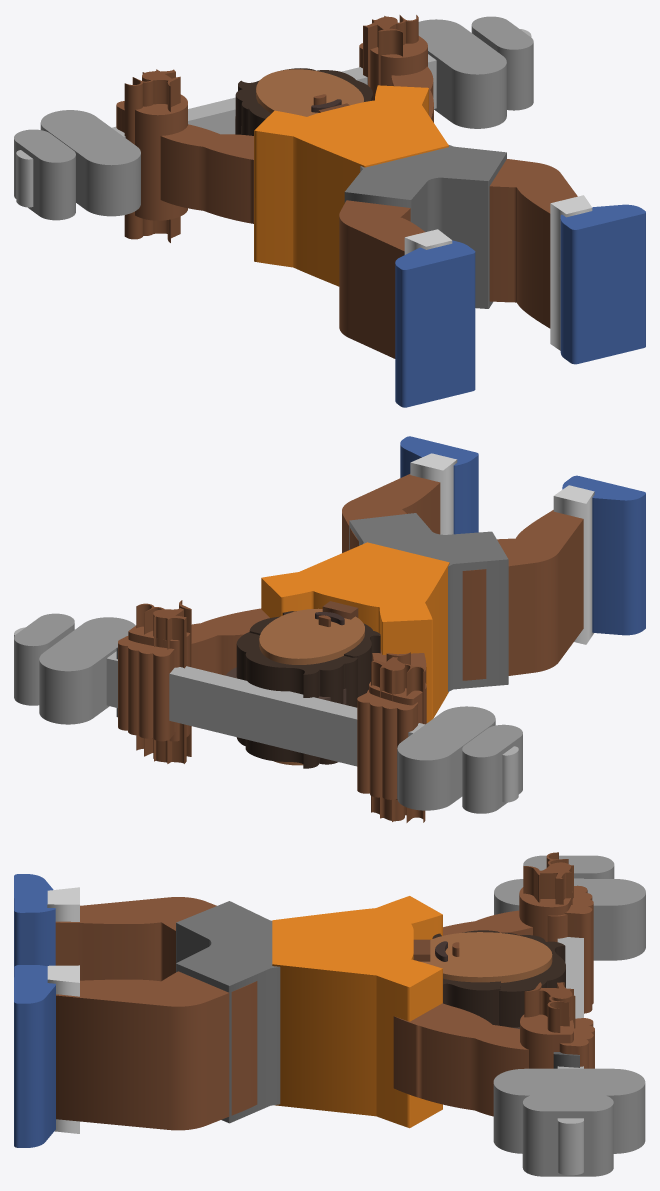
The model's file is emoji_u1f3cb_1f3fe.glb.
3 renders of one model, top to bottom at view 1: azimuth 30°, elevation 25°; view 2: azimuth 150°, elevation 25°; view 3: azimuth 270°, elevation 25°, orthographic. The views are drawn at different scales.
Visible parts, largest first — view 1: emoji_u1f3cb_1f3fe; view 2: emoji_u1f3cb_1f3fe; view 3: emoji_u1f3cb_1f3fe.
Part boxes in pixels (x1,y1,x2,y2): emoji_u1f3cb_1f3fe: [14, 15, 645, 407]; emoji_u1f3cb_1f3fe: [14, 436, 645, 822]; emoji_u1f3cb_1f3fe: [14, 852, 645, 1176].
Bounding box in the file's own units: 0.0334 × 0.0098 × 0.0333.
